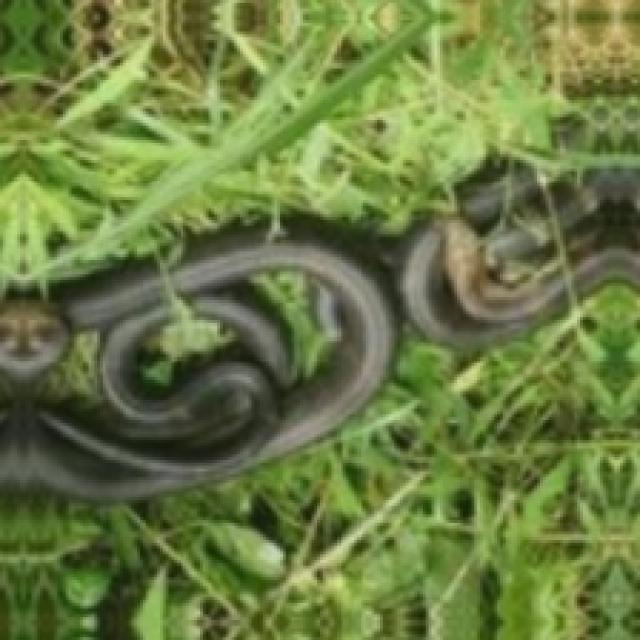king cobra: (0, 154, 637, 500)
